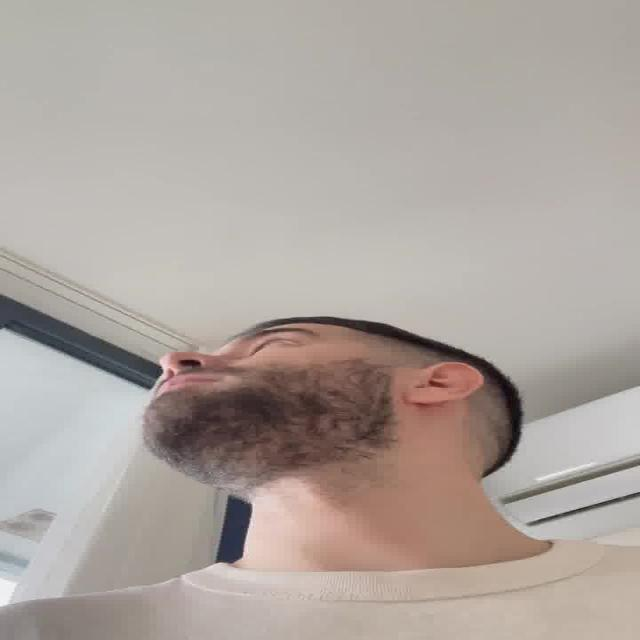earlobe: (414, 386, 452, 405)
eye: (246, 338, 298, 354)
nose: (160, 367, 206, 378)
wholeear: (414, 362, 486, 406)
